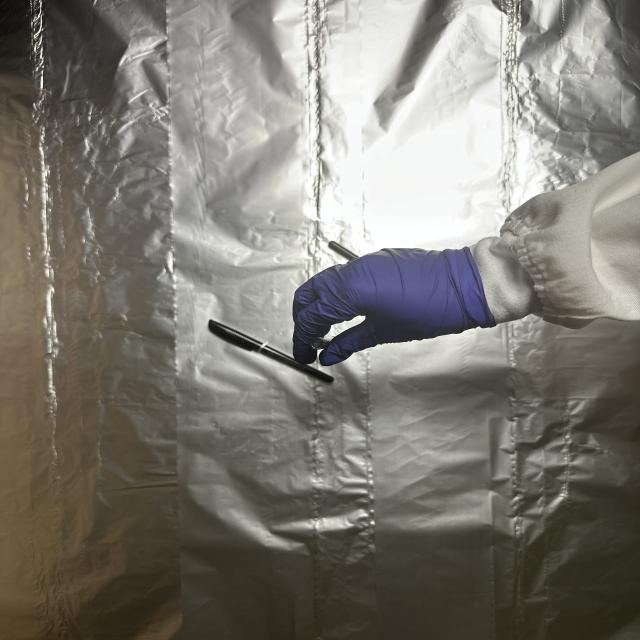gloves_contaminated: (293, 247, 496, 366)
